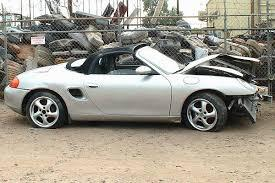Headlight-Damage: (237, 71, 264, 91)
bonnet-dent: (188, 54, 258, 72)
